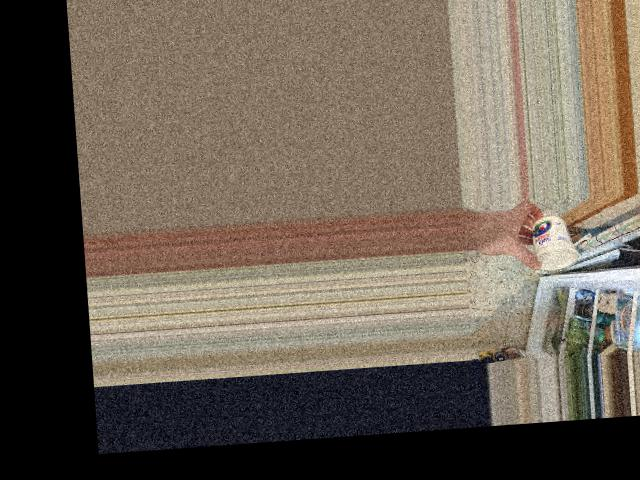cotage: (522, 212, 580, 274)
